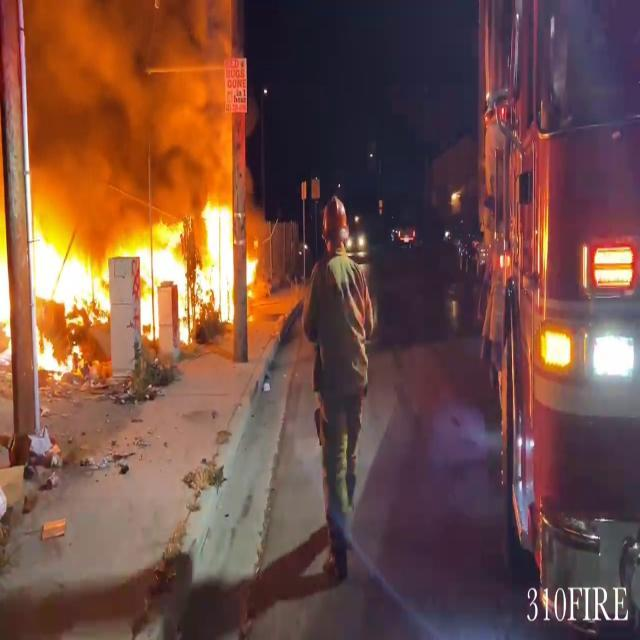Fire: (8, 191, 244, 356)
Smoke: (3, 0, 250, 203)
